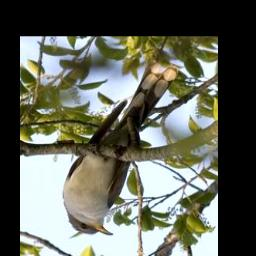Cuckoo: (62, 63, 178, 236)
